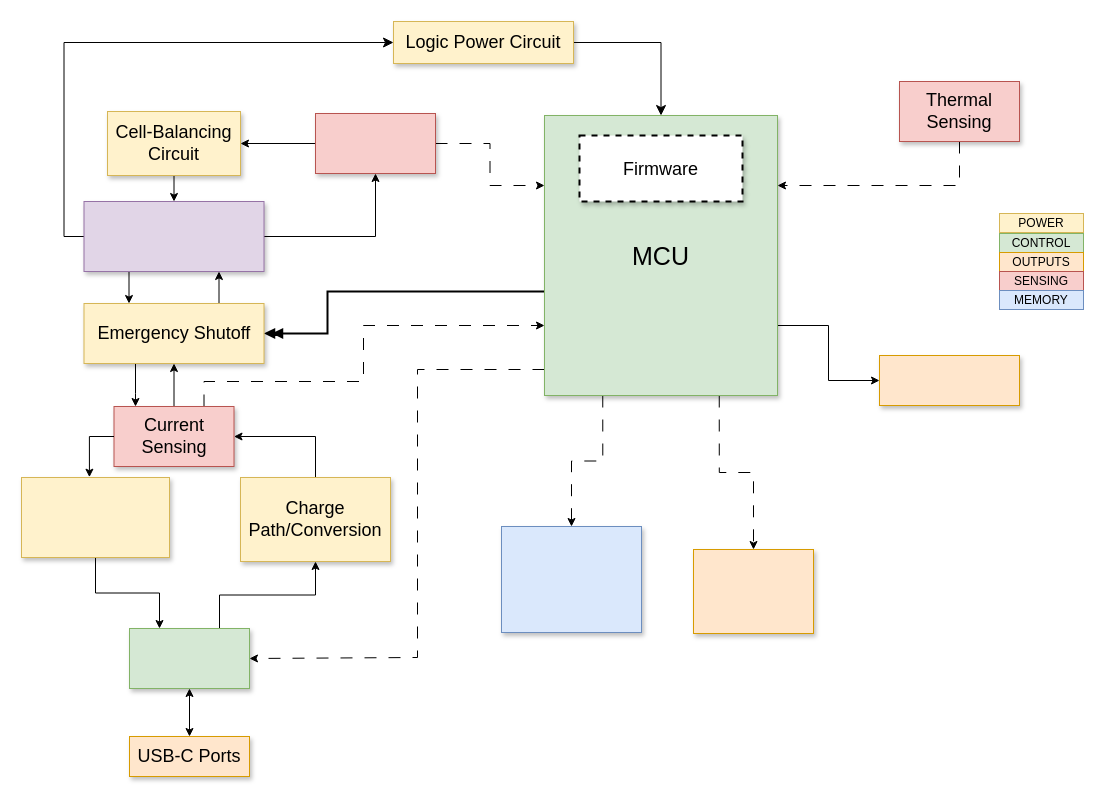
The diagram is 1101 pixels wide and 801 high, and some of its shapes have lost their labels. The centre of each missing label's shape, as x and y in pixels:
"Battery Pack" goes at (x=174, y=237).
"Discharge Path/Conversion" goes at (x=96, y=518).
"LED Indicator" goes at (x=950, y=381).
"Non-Volatile Memory (Data Logging)" goes at (x=572, y=581).
"Real-time Monitoring Port" goes at (x=754, y=592).
"USB-C PD Controller" goes at (x=190, y=660).
"Voltage Sensing" goes at (x=376, y=144).
